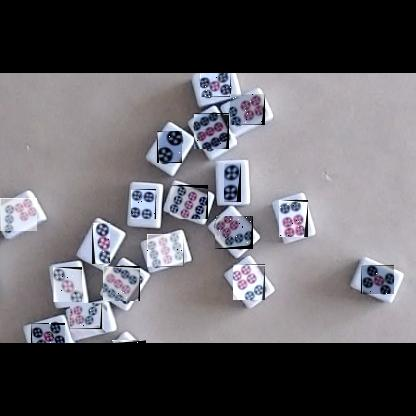2p: (157, 131, 182, 163), (224, 163, 241, 202)
3p: (53, 267, 82, 302), (92, 223, 110, 264)
4p: (131, 189, 156, 219)
5p: (361, 265, 394, 294), (200, 73, 231, 97), (31, 323, 65, 343)
6p: (233, 264, 265, 300), (230, 94, 265, 125), (279, 200, 308, 237)
7p: (215, 216, 253, 249), (0, 198, 37, 231), (71, 304, 107, 334)
8p: (112, 340, 146, 343)
9p: (103, 266, 140, 301), (170, 185, 208, 219), (194, 113, 229, 149), (147, 234, 184, 267)
